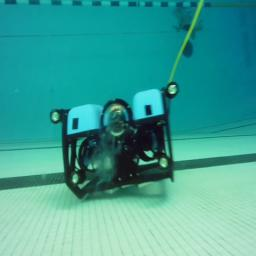front: (50, 82, 178, 200)
